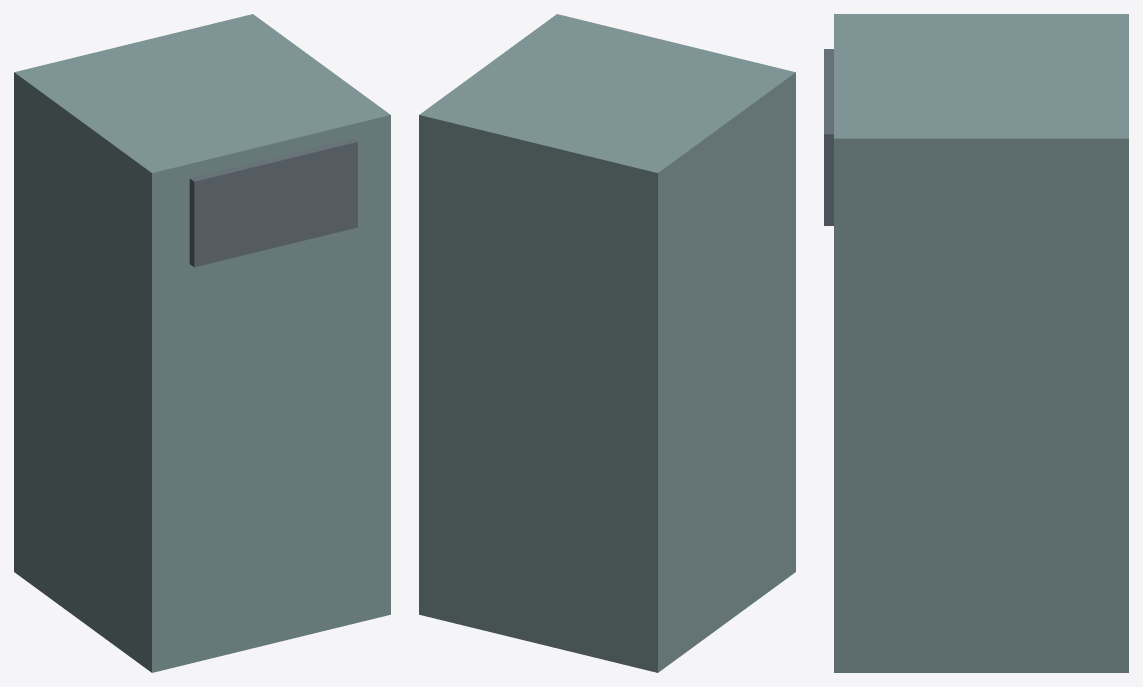
File: city-bin.glb
The picture shows the model from 3 angles, left to right: view 1: azimuth 30°, elevation 25°; view 2: azimuth 150°, elevation 25°; view 3: azimuth 270°, elevation 25°; orthographic projection. The views are drawn at different scales.
Size of the model in its own units: 0.35 by 0.7 by 0.362.
